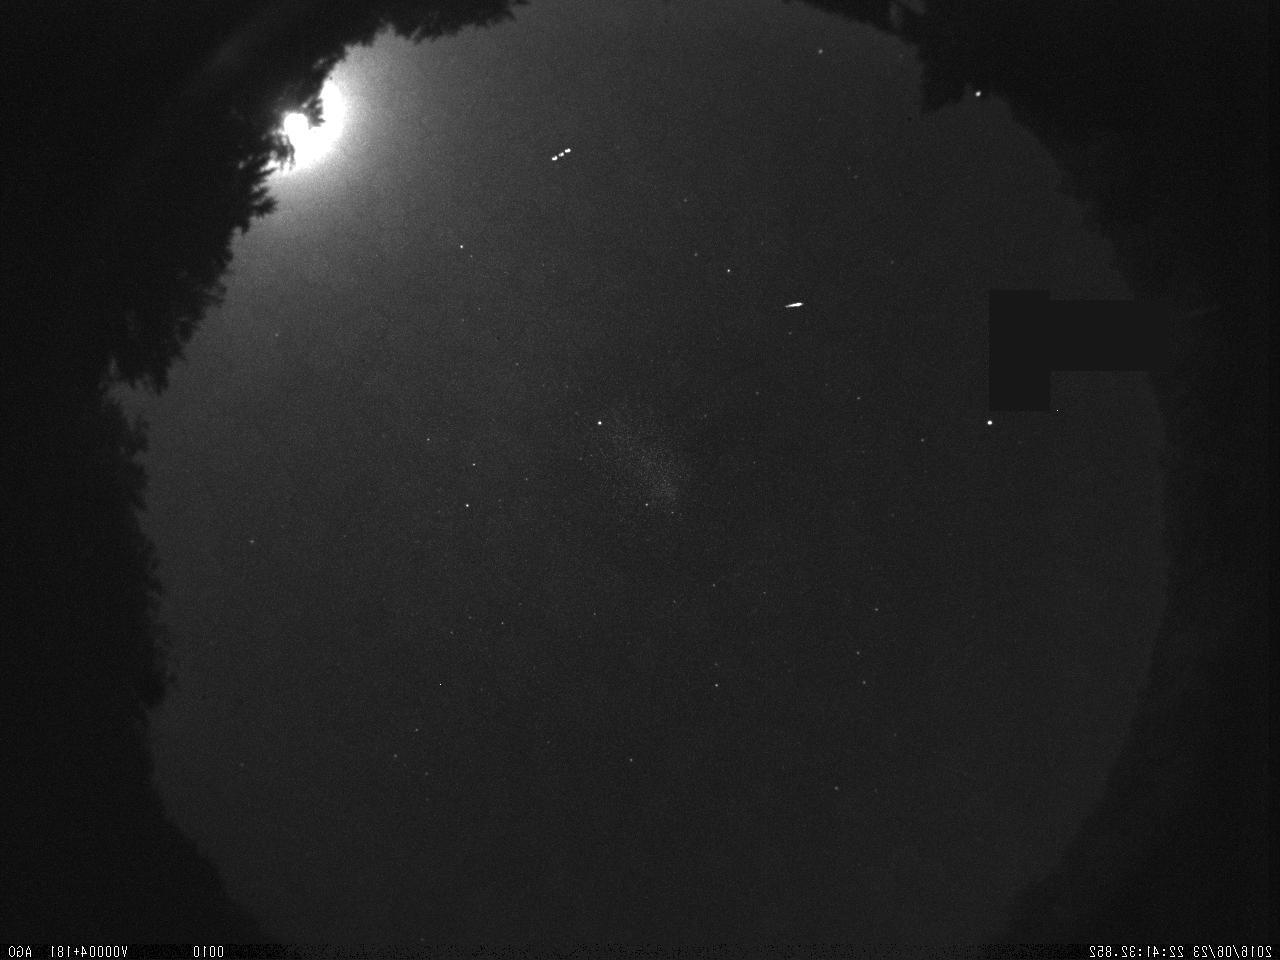meteor: (773, 294, 809, 317)
satelite: (546, 141, 574, 168)
